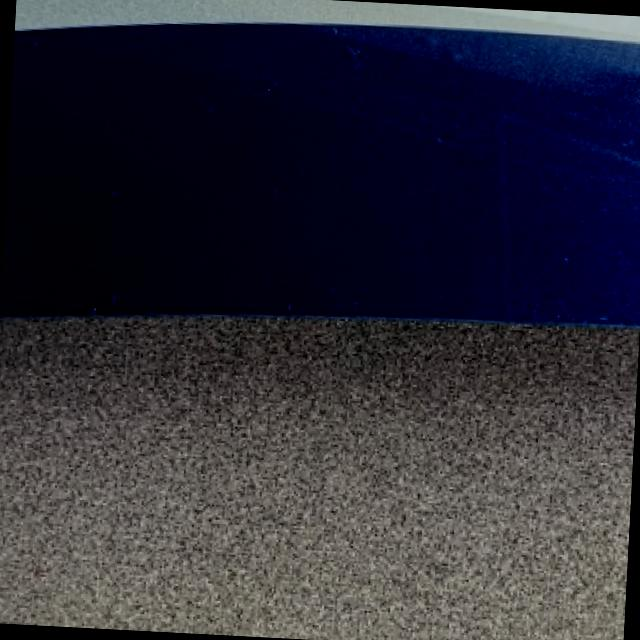healthy: (0, 22, 640, 640), (2, 23, 640, 322)
